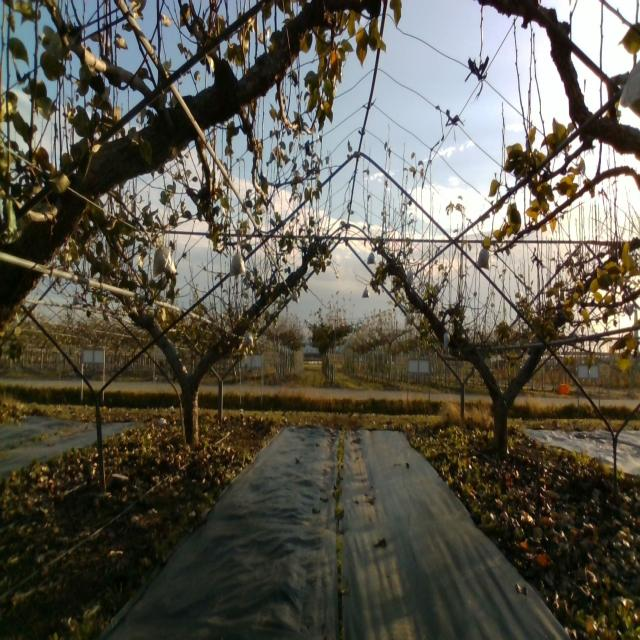pearbags: (153, 238, 175, 279), (228, 248, 246, 278), (475, 247, 491, 271)
